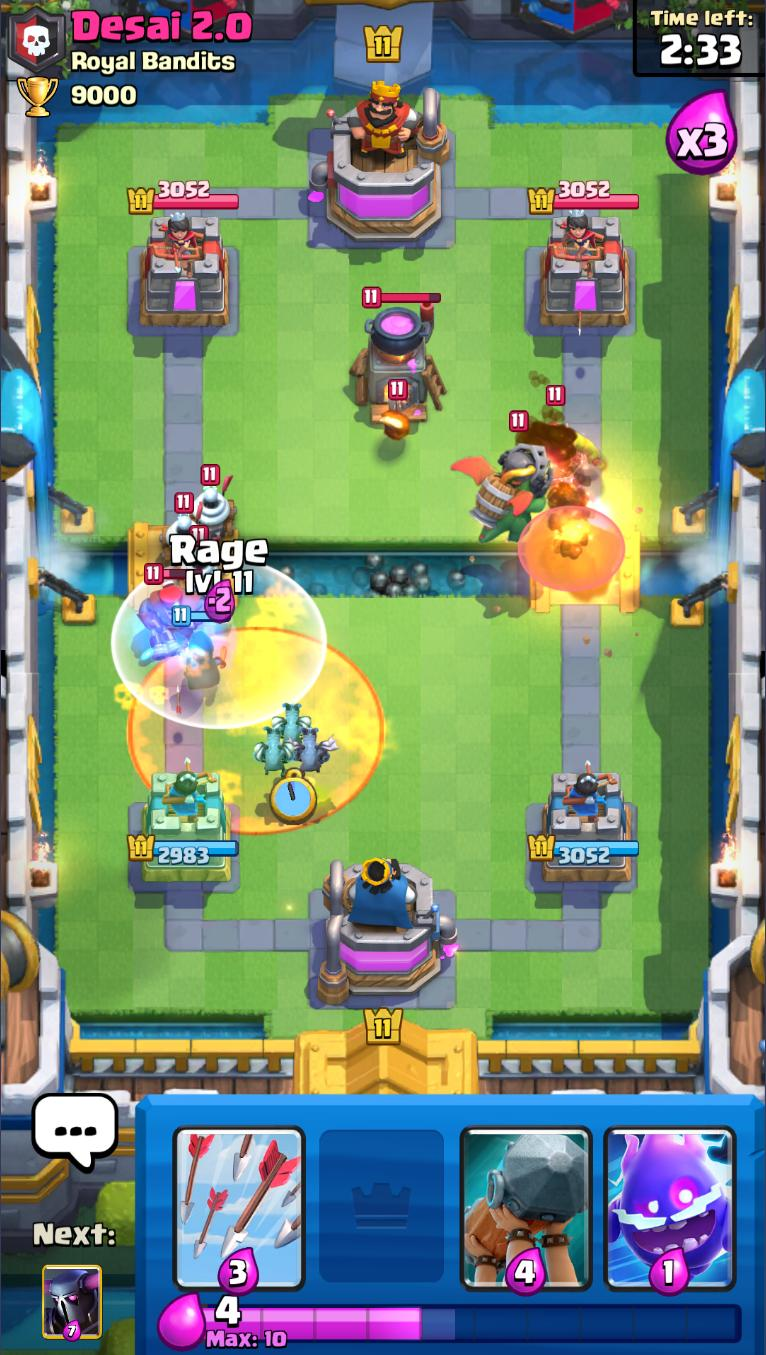ArrowDeck: (166, 1096, 312, 1294)
BattleRamDeck: (454, 1097, 598, 1296)
Demolisher: (516, 386, 601, 491)
ElectroSpiritDeck: (598, 1095, 743, 1296)
Elixir: (202, 1294, 743, 1351)
Empty: (312, 1096, 453, 1298)
EnemyTower: (138, 215, 232, 331), (539, 215, 632, 331)
FireSpirit: (381, 377, 412, 445)
Furnace: (351, 289, 448, 426)
Hunter: (139, 563, 204, 659)
InfernoDragon: (449, 409, 550, 545)
KingTower: (310, 79, 451, 248)
MiniGenerator: (187, 463, 240, 543), (160, 493, 201, 561), (177, 526, 223, 585)
MyBandit: (171, 605, 225, 691)
MyKingTower: (316, 856, 459, 1009)
MyMinion: (288, 726, 339, 774), (255, 724, 296, 774), (269, 700, 312, 738)
MyPrincessTower: (125, 771, 242, 889), (528, 770, 641, 889)
MyPrincessTowerHP: (125, 835, 241, 868), (527, 835, 641, 868)
PekkaNext: (41, 1264, 104, 1342)
Poison: (131, 631, 383, 837)
PrincessTower: (149, 215, 203, 277), (550, 216, 603, 274)
TowerPrincessHP: (127, 182, 240, 217), (528, 182, 641, 216)
